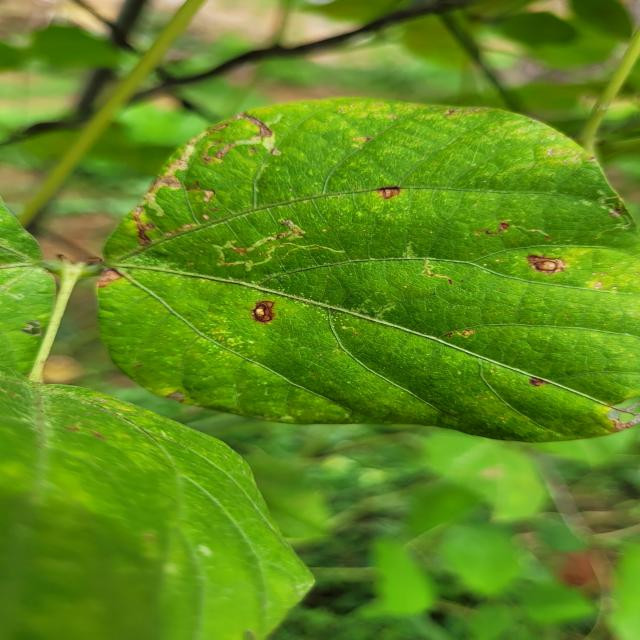Dolicos bean_cercospora leaf spot: (99, 99, 640, 441)
Dolicos bean_healthy: (0, 392, 319, 639)
